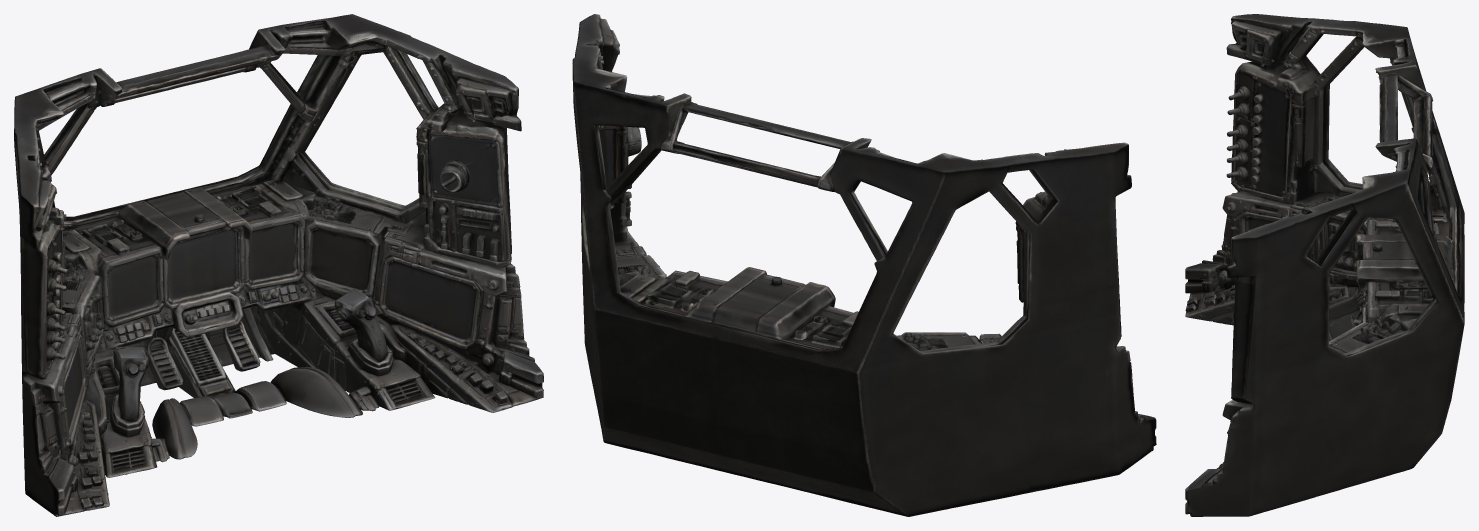
Rendered from cockpit.glb.
3 views of the same model, side by side, from view 1: azimuth 30°, elevation 25°; view 2: azimuth 150°, elevation 25°; view 3: azimuth 270°, elevation 25° (orthographic). The views are drawn at different scales.
Parts seen in each view (by area): view 1: shell, gripR, gripL; view 2: shell; view 3: shell.
Part boxes in pixels (x1=…): shell: x1=14, y1=14, x2=543, y2=516; gripR: x1=334, y1=290, x2=399, y2=359; gripL: x1=90, y1=346, x2=149, y2=419; shell: x1=572, y1=14, x2=1156, y2=516; shell: x1=1185, y1=14, x2=1464, y2=516.
Bounding box in the file's own units: 0.9822 × 0.6218 × 0.517.
Materials: 1 (1 with a texture image).
